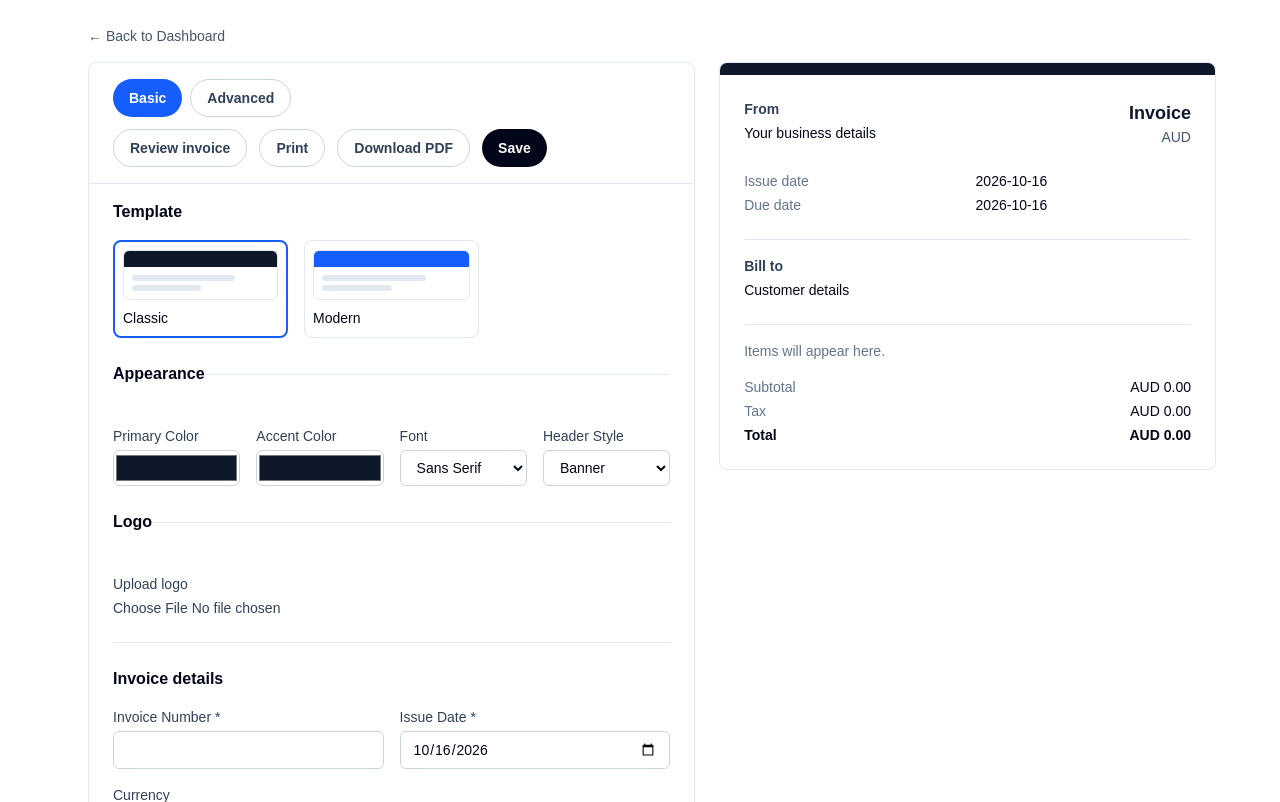
CreateInvoiceEditor › as an authenticated user, shows an inline error message when the PDF download fails
Type "INV-000001" into the field labelled "Invoice Number *" at x=248, y=750, box x1=113 y1=731 x2=384 y2=769
(page scrolled)
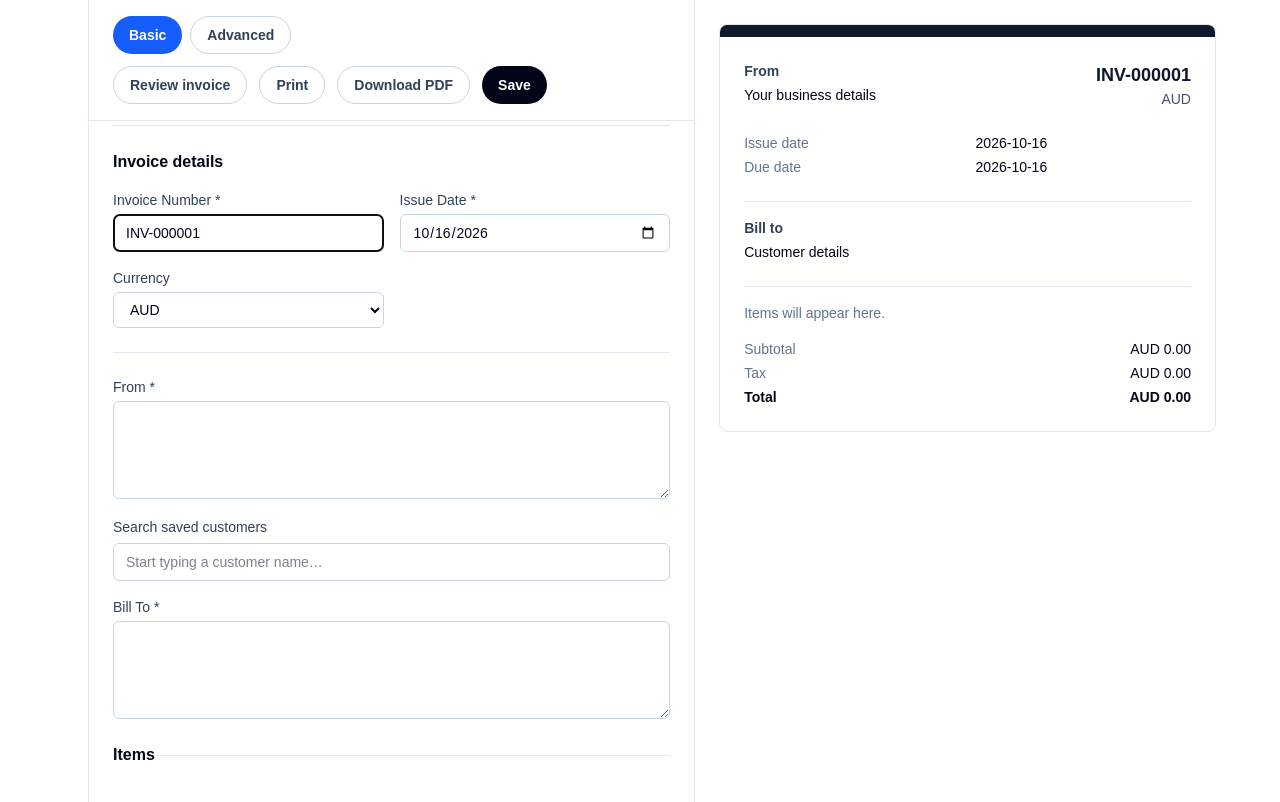
Type "Acme Pty Ltd" into the text box labelled "From" at x=392, y=450, box x1=113 y1=401 x2=670 y2=499
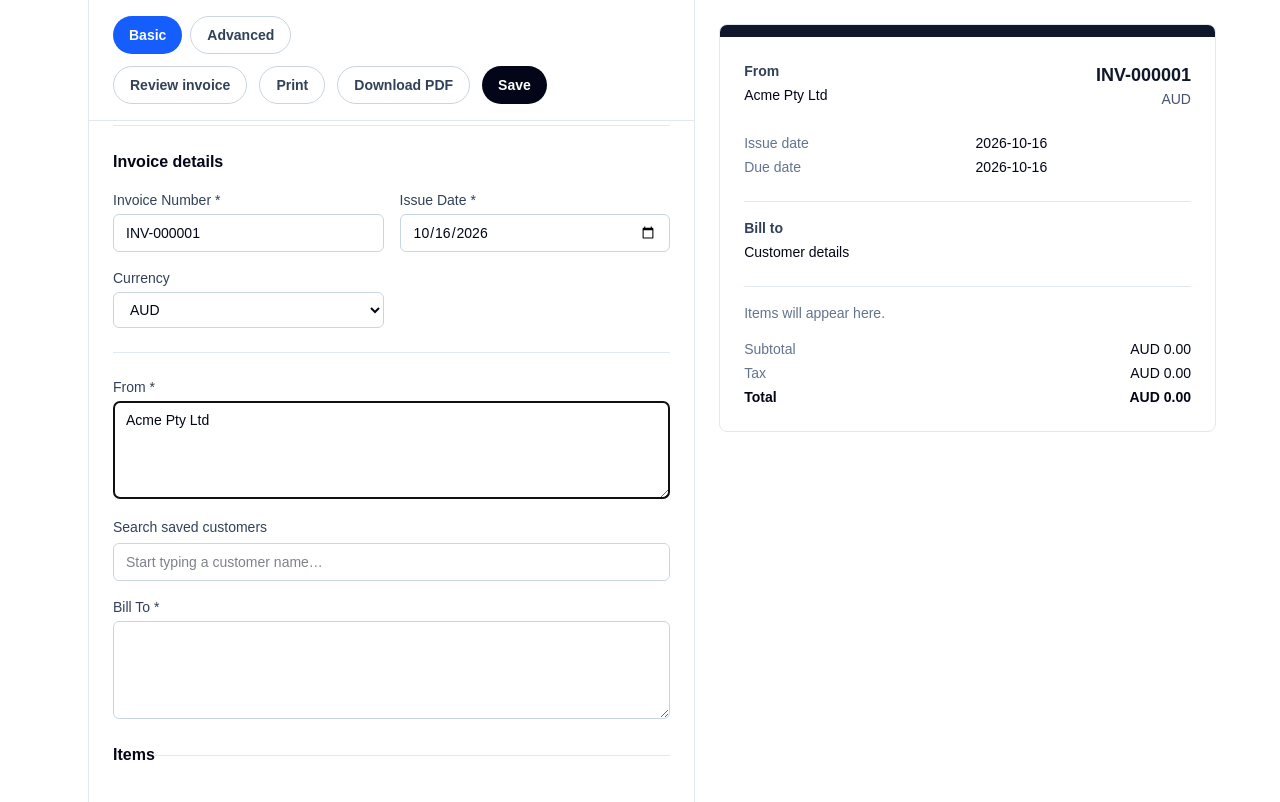
Type "Jane's Cafe" into the text box labelled "Bill To" at x=392, y=670, box x1=113 y1=621 x2=670 y2=719
(page scrolled)
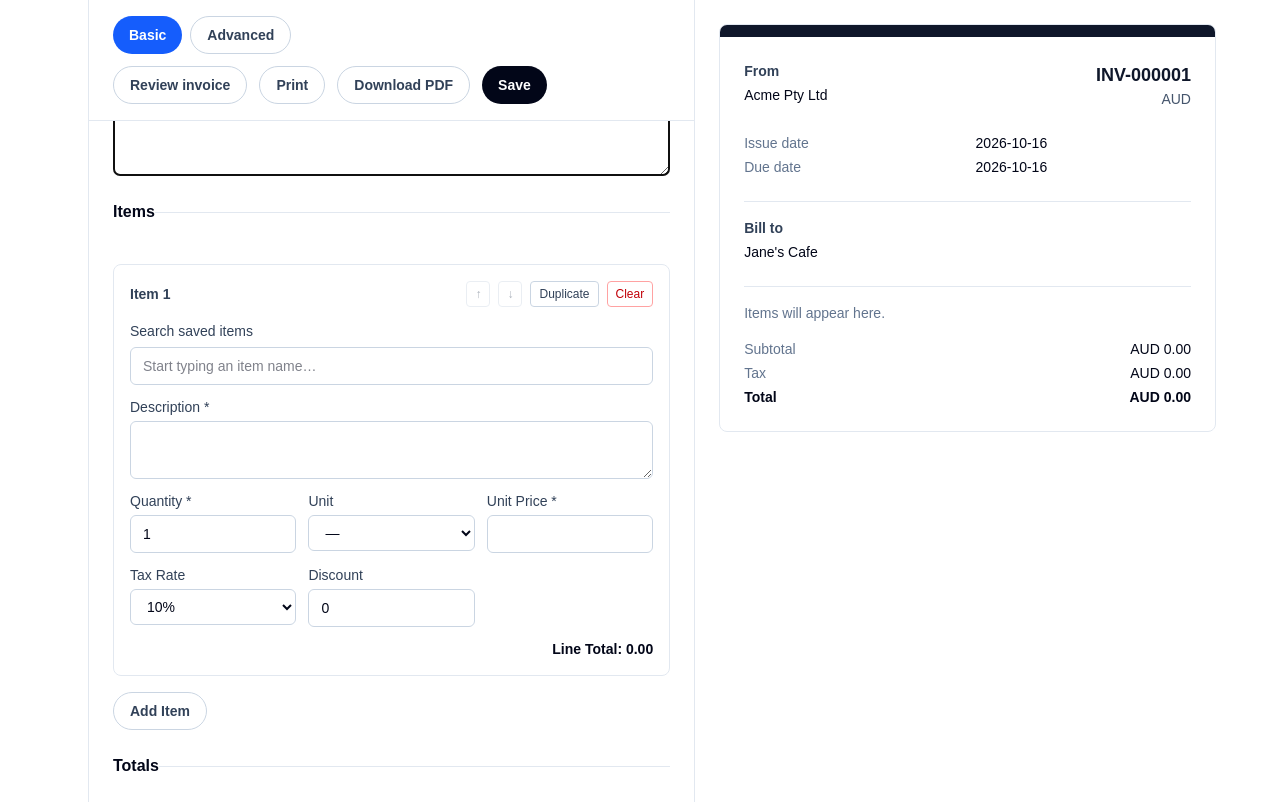
Type "Consulting" into the text box labelled "Description" at x=392, y=450, box x1=130 y1=421 x2=653 y2=479
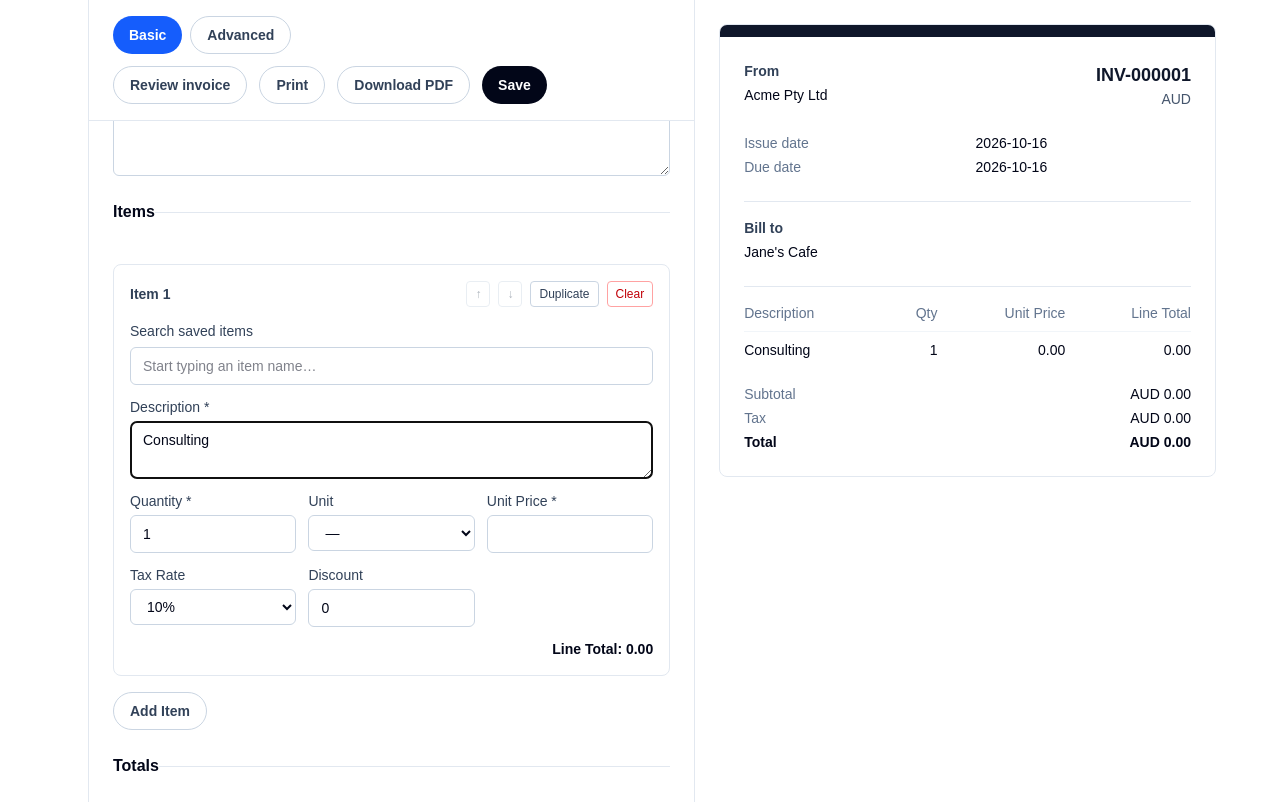
Type "50" into the number field labelled "Unit Price *" at x=570, y=534, box x1=487 y1=515 x2=653 y2=553
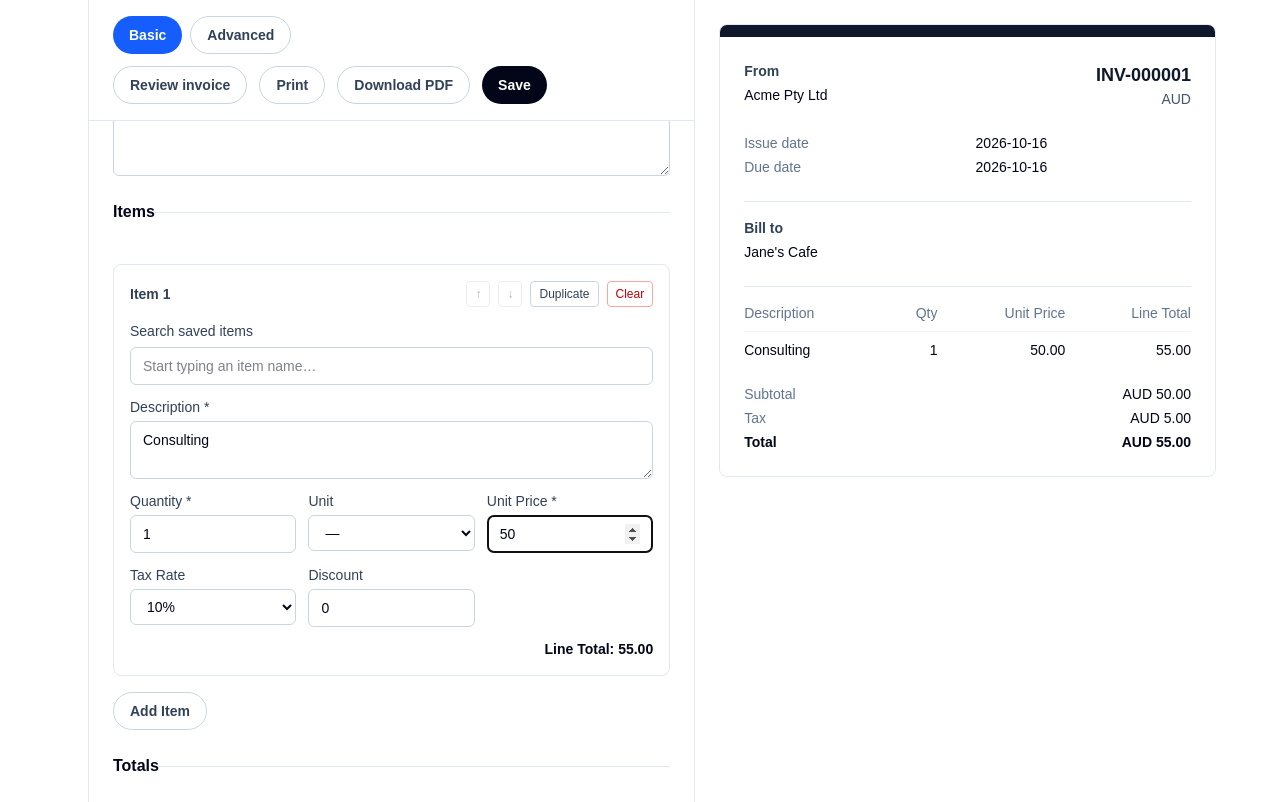
Click the button "Download PDF" at x=404, y=85, box x1=337 y1=66 x2=470 y2=104
(page scrolled)
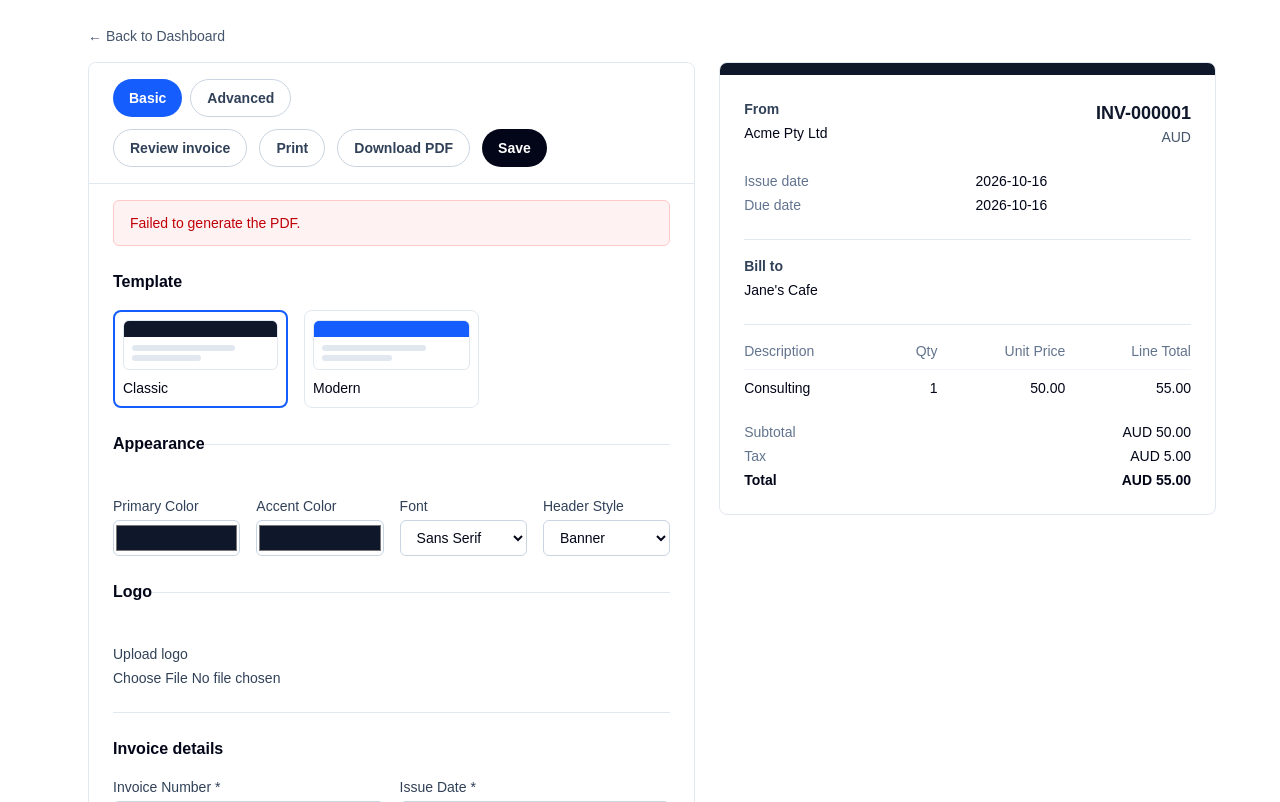
Result: the text "Failed to generate the PDF." is shown at x1=113 y1=200 x2=670 y2=246
